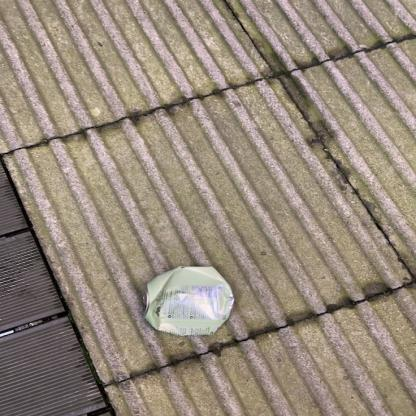Aerosols: (125, 259, 252, 348)
